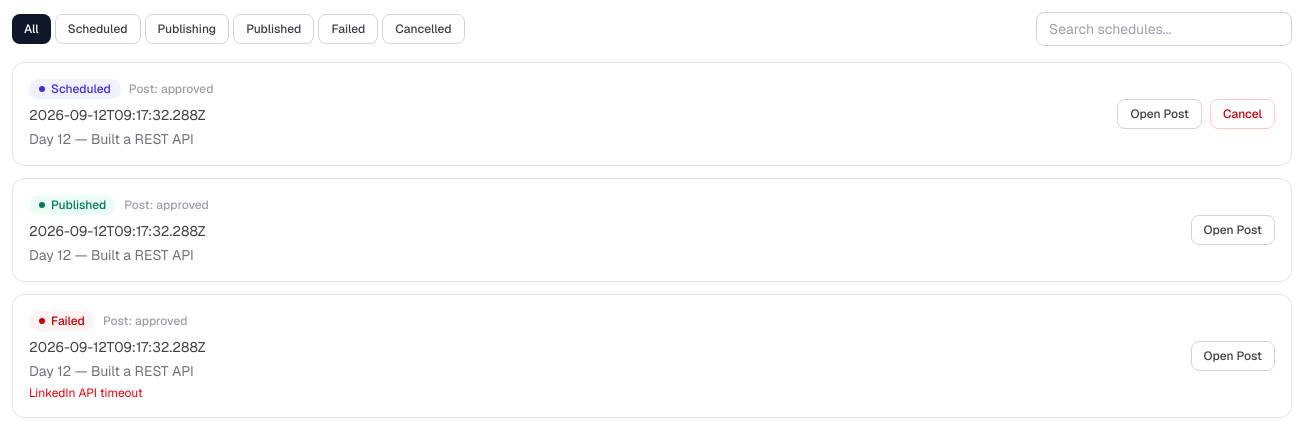
Test: ScheduleList › filters by status
Click the button "Failed".
click(348, 29)  # box [318, 14, 378, 44]
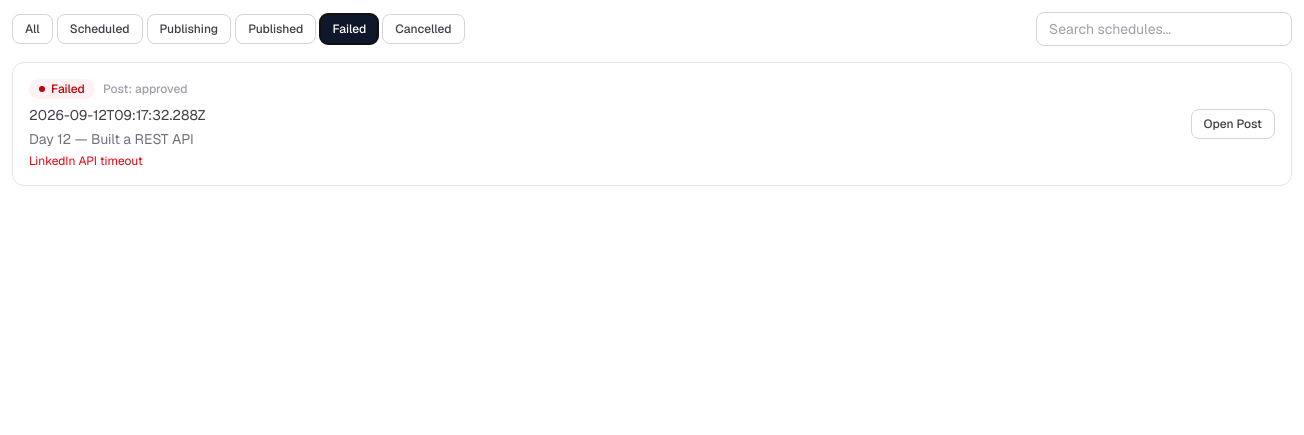
Expected: the text "Day 12 — Built a REST API" is shown, [29, 129, 206, 149]
Expected: the number of links "Open Post" is 1, [1190, 109, 1275, 139]
